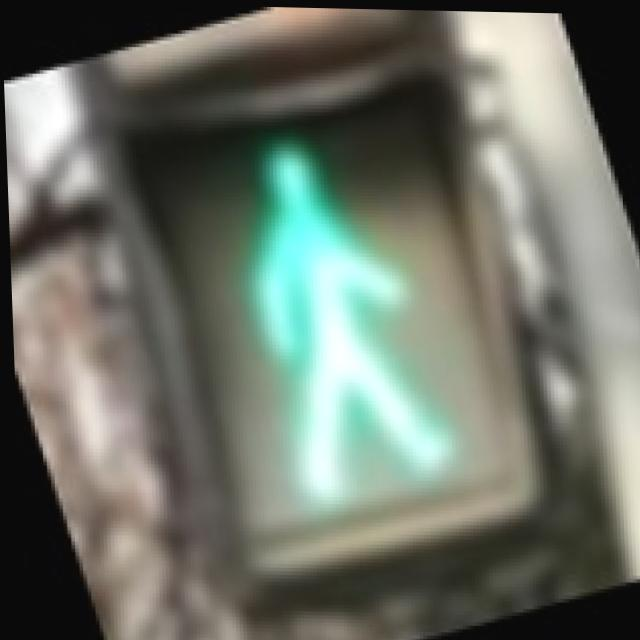green_light: (103, 73, 549, 585)
